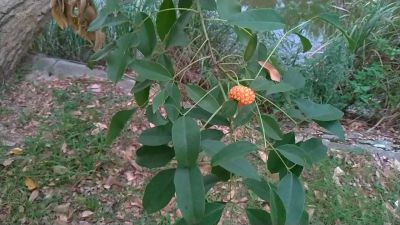eggs: (226, 82, 258, 106)
